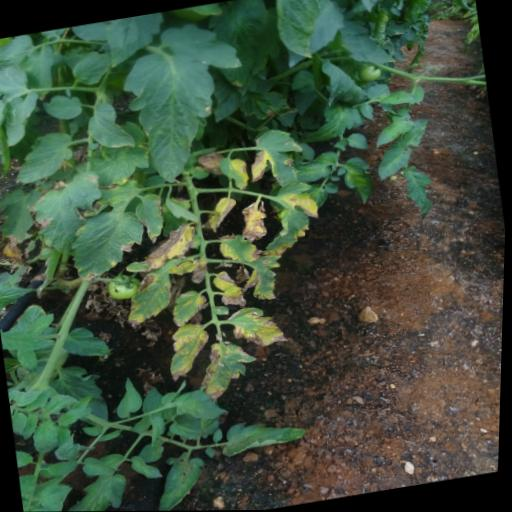Early Blight: (65, 206, 151, 282), (264, 177, 324, 252), (197, 337, 264, 404), (241, 124, 306, 193), (162, 319, 216, 382), (136, 219, 201, 271), (121, 268, 178, 326), (229, 300, 290, 351), (237, 251, 292, 305), (133, 191, 169, 245), (217, 228, 266, 267), (209, 266, 250, 311), (235, 198, 273, 244), (168, 287, 211, 326), (216, 154, 252, 193)
Healthy: (59, 321, 115, 362), (111, 374, 148, 419)
Leaf_Miner: (0, 89, 44, 148)
